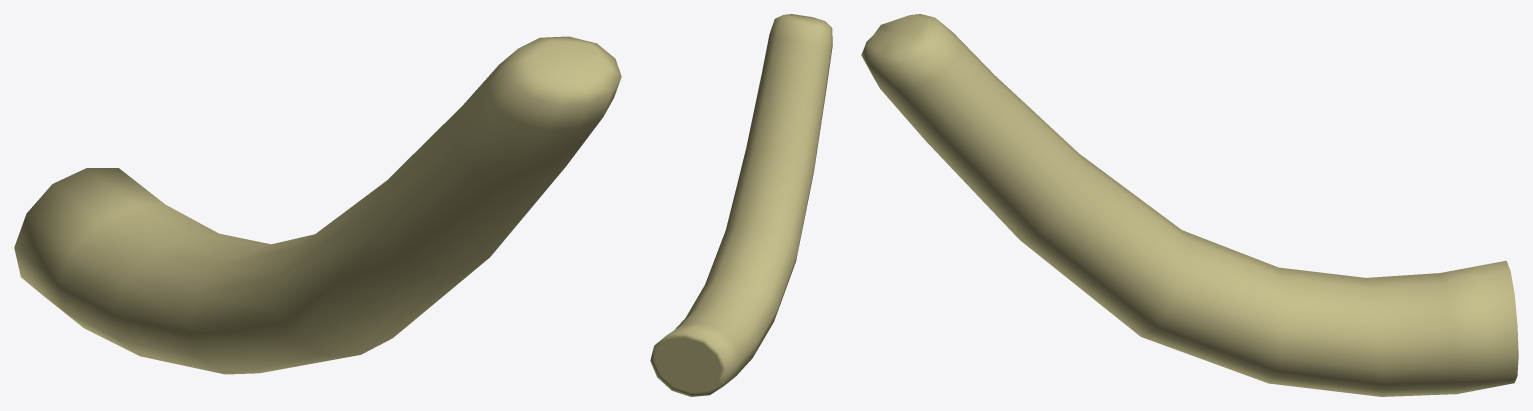
The model's file is Nerves_L6.FBX.
The picture shows the model from 3 angles, left to right: view 1: azimuth 30°, elevation 25°; view 2: azimuth 150°, elevation 25°; view 3: azimuth 270°, elevation 25°; orthographic projection. The views are drawn at different scales.
Parts seen in each view (by area): view 1: Nerves_L6; view 2: Nerves_L6; view 3: Nerves_L6.
Boxes of the visible parts, x1,y1,x2,y2 form: Nerves_L6: [14, 36, 621, 374]; Nerves_L6: [650, 14, 832, 396]; Nerves_L6: [861, 14, 1518, 396].
Bounding box in the file's own units: 0.00303 × 0.00554 × 0.00801.
